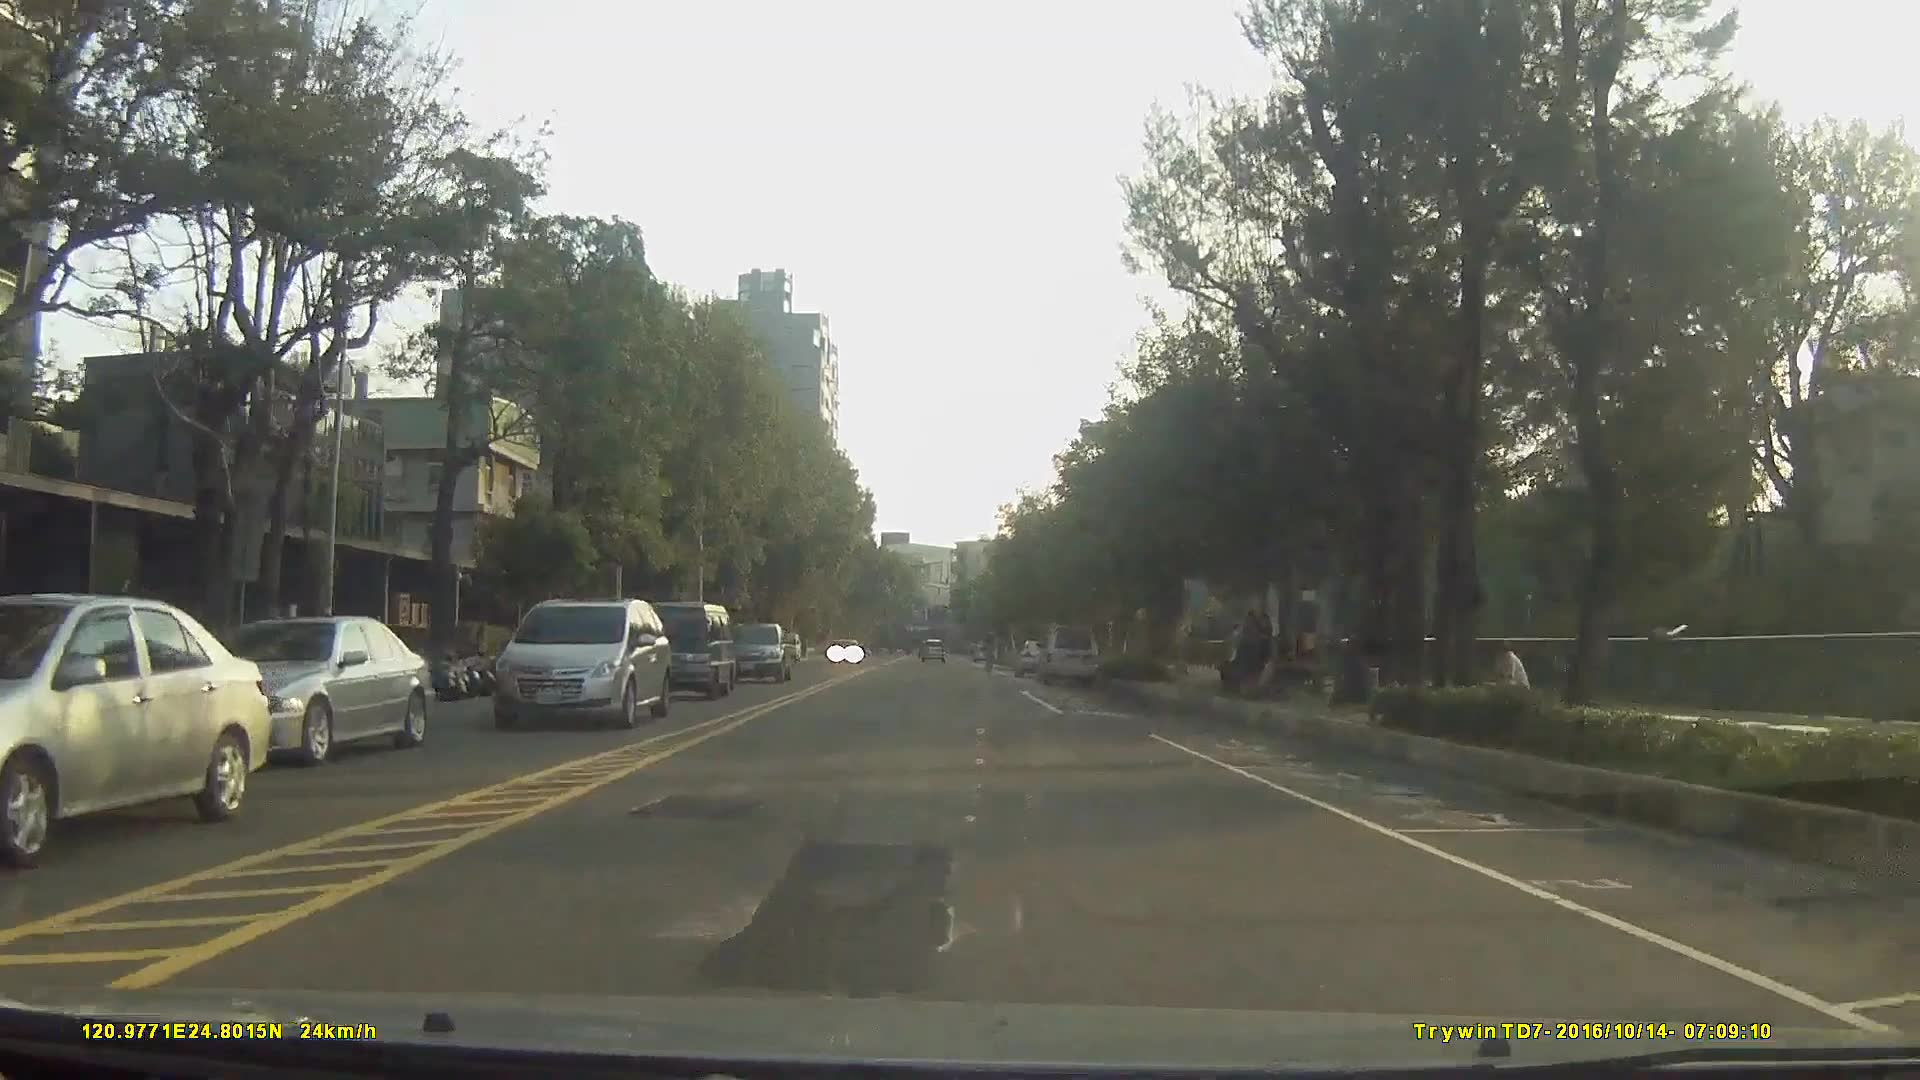pedestrian: (1222, 619, 1252, 689)
rider: (980, 631, 1000, 676)
vehicle: (0, 591, 269, 864), (179, 615, 433, 766), (490, 598, 671, 731), (628, 598, 735, 699), (717, 618, 789, 680), (1036, 622, 1100, 685), (1015, 641, 1058, 683), (915, 638, 946, 662)
